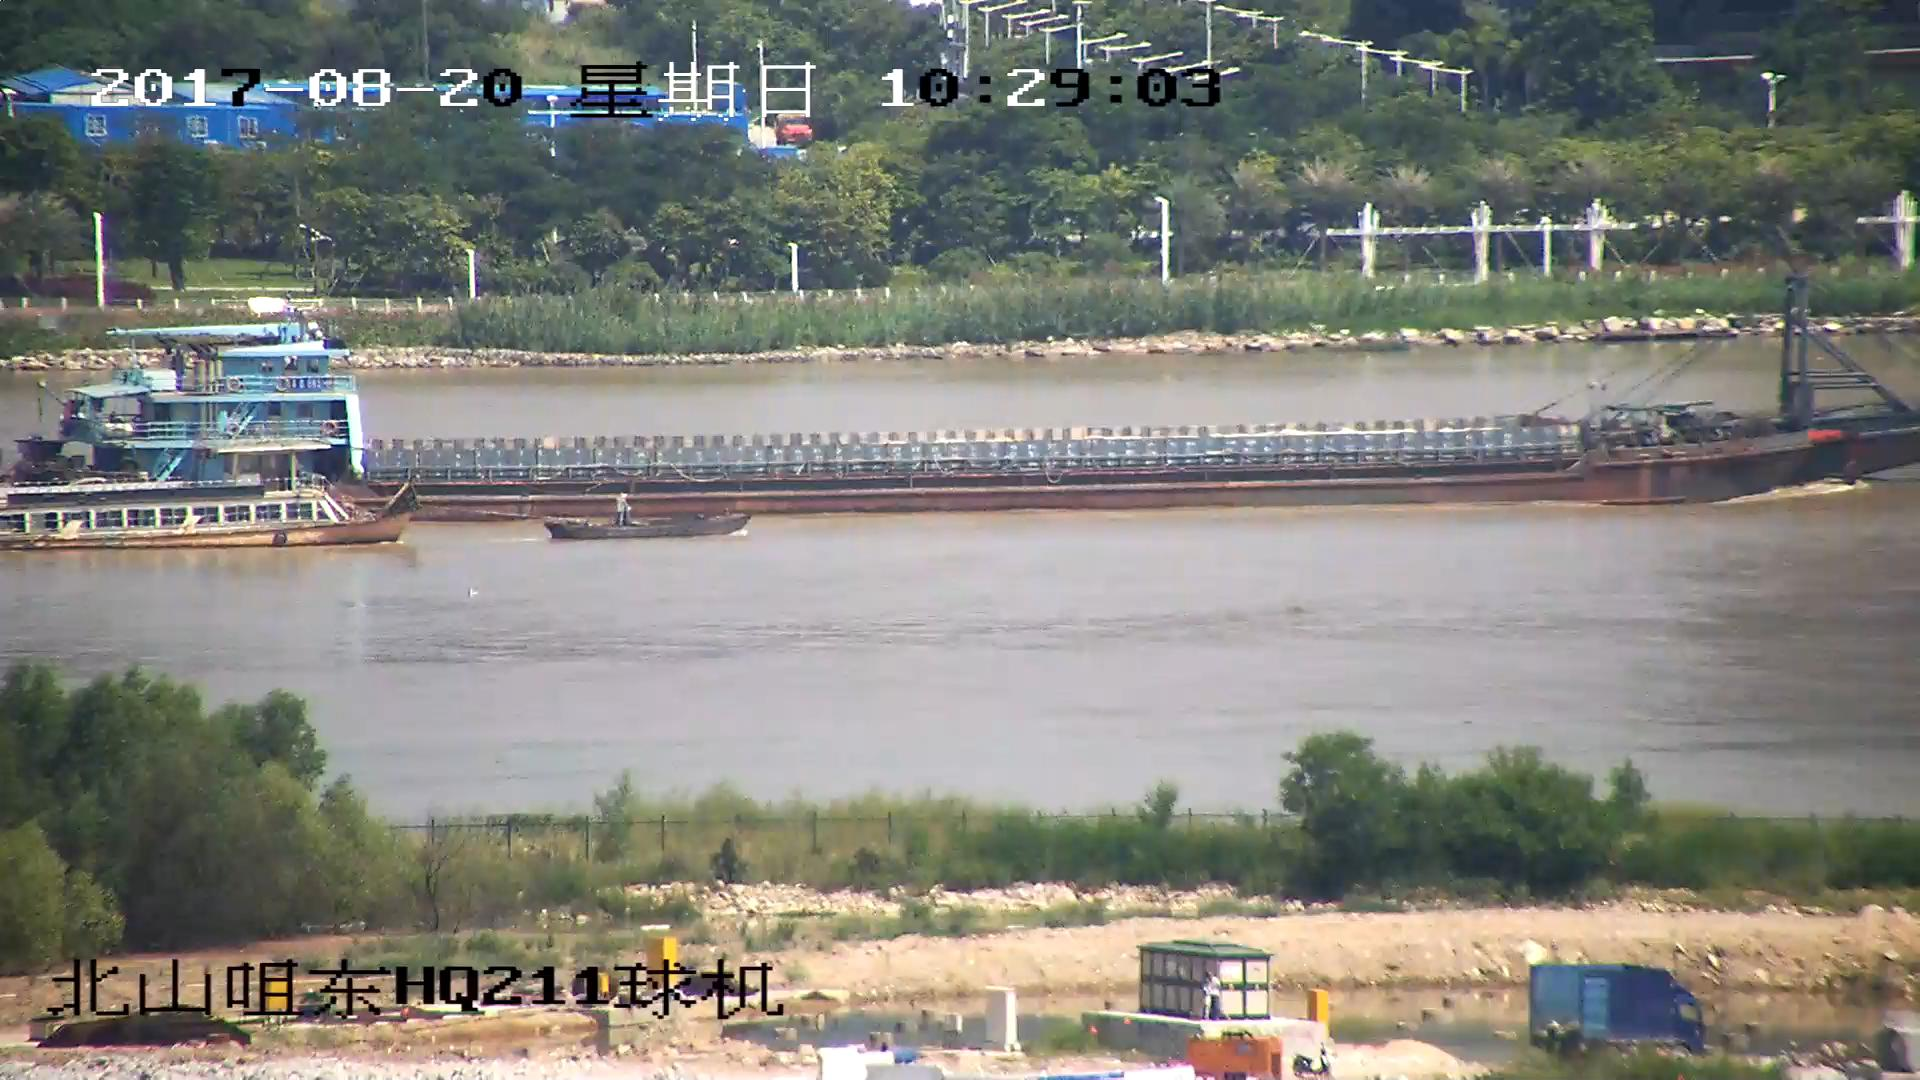fishing boat: (1, 442, 406, 555), (544, 493, 750, 539)
ore carrier: (25, 282, 1920, 522)
